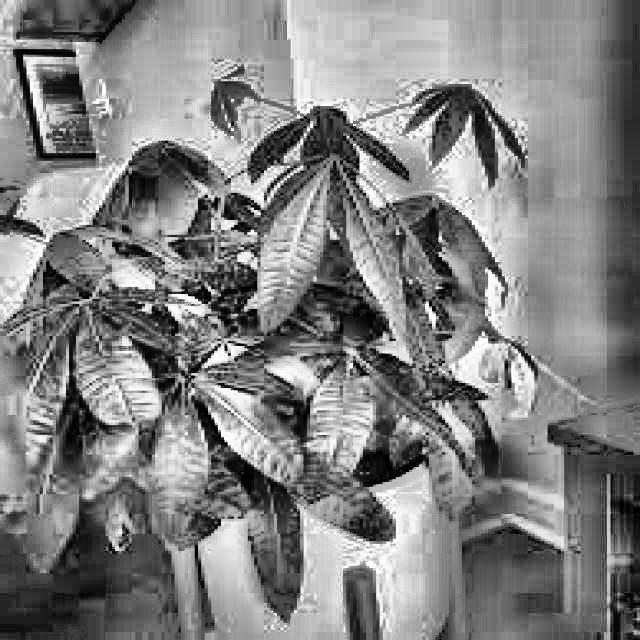plants: (0, 69, 599, 543)
